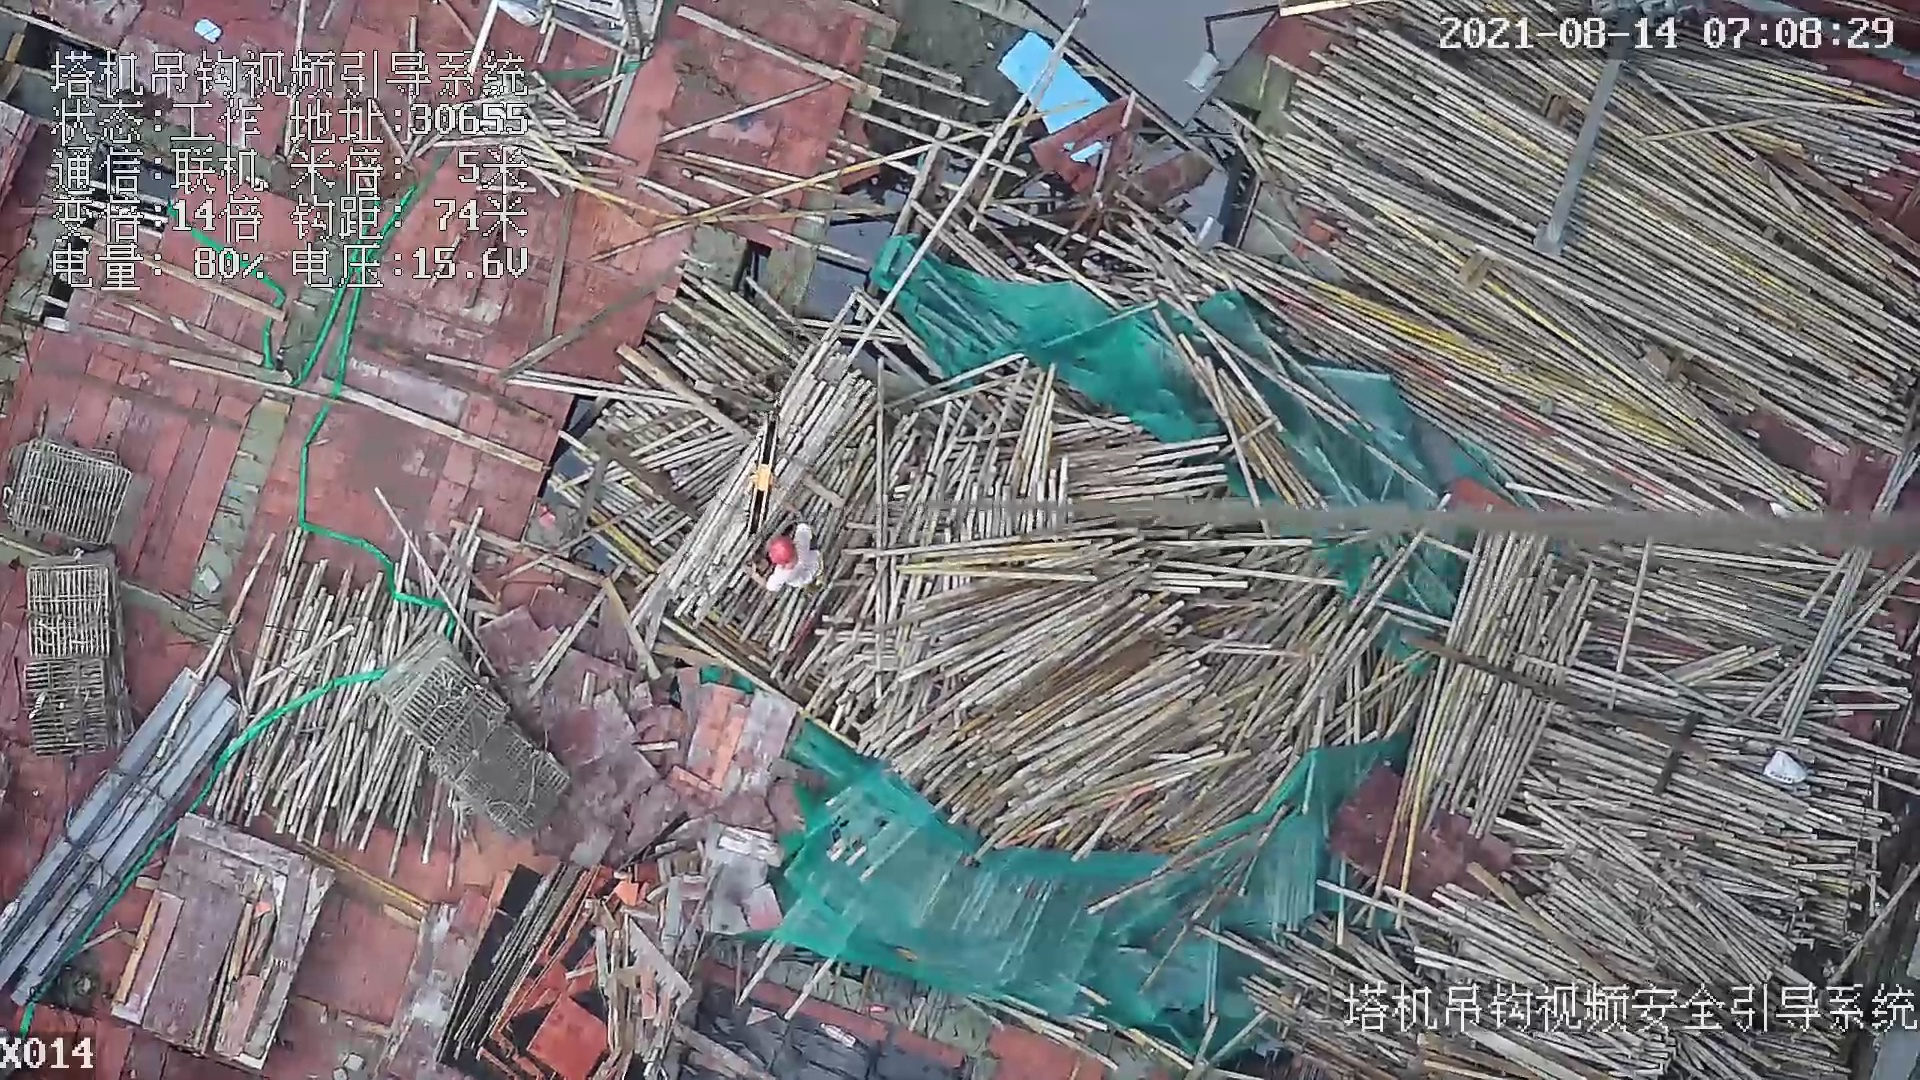helmet: (767, 537, 796, 566)
hook: (747, 413, 778, 544)
person: (763, 530, 829, 595)
